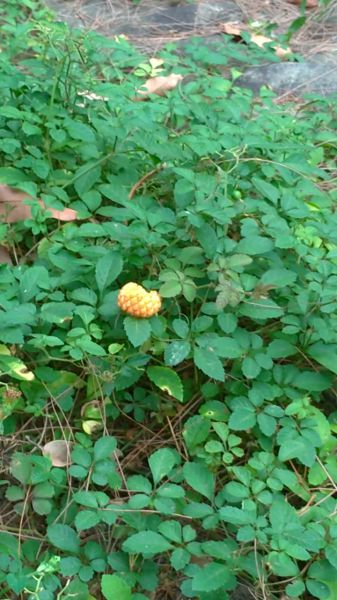eggs: (111, 280, 167, 320)
